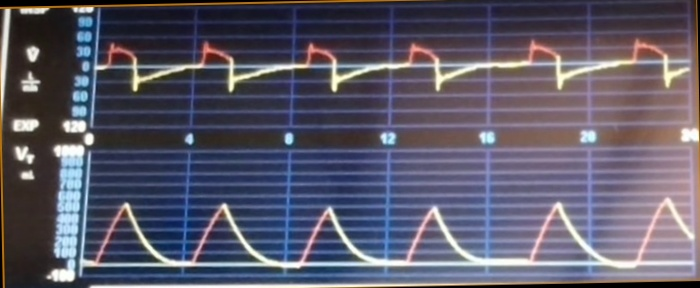Normal Flow: (98, 20, 689, 113)
Normal Volume: (88, 183, 694, 272)
